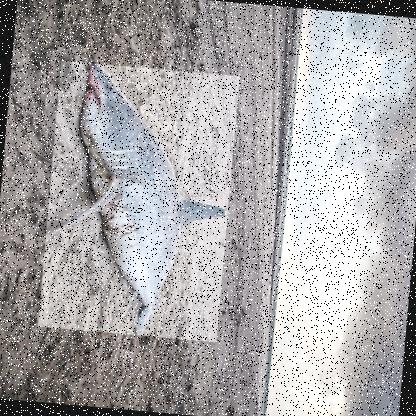mako-shark: (37, 60, 240, 342)
